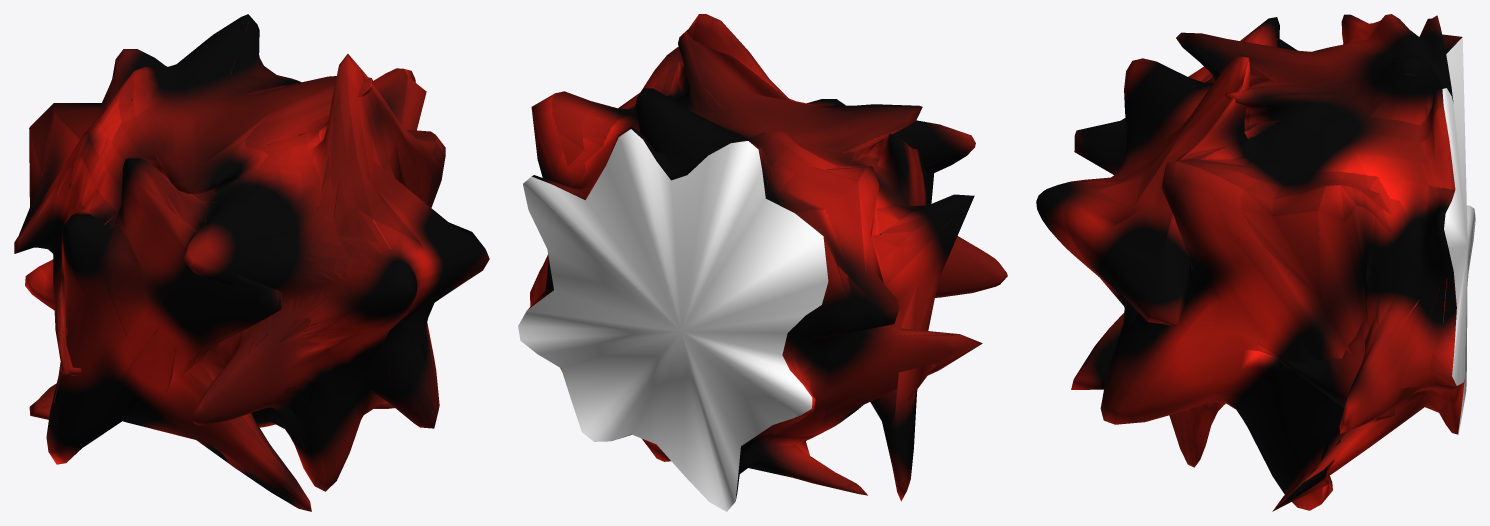
The model's file is angry_memory.glb.
The picture shows the model from 3 angles, left to right: view 1: azimuth 30°, elevation 25°; view 2: azimuth 150°, elevation 25°; view 3: azimuth 270°, elevation 25°; orthographic projection. The views are drawn at different scales.
Parts seen in each view (by area): view 1: angrymemb; view 2: angrymemb; view 3: angrymemb.
Part boxes in pixels (<box>): angrymemb: <box>14,14,489,511</box>; angrymemb: <box>518,14,1007,511</box>; angrymemb: <box>1036,14,1475,511</box>.
Size of the model in its own units: 0.4659 by 0.4637 by 0.4105.
2 materials, 2 textured.
